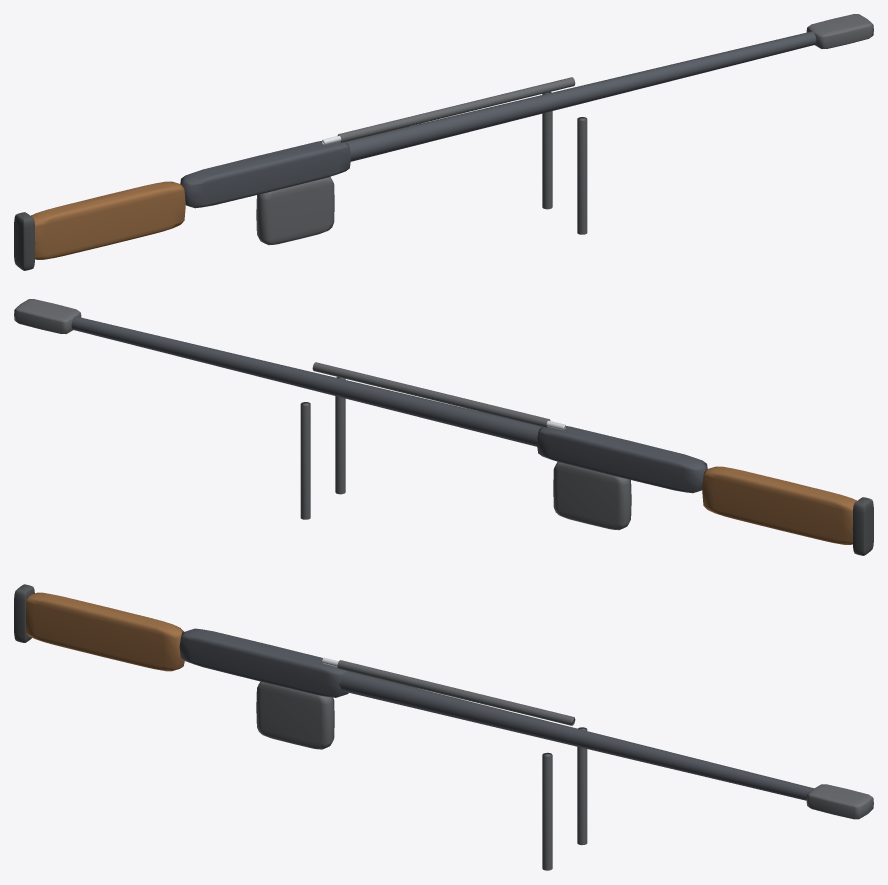
File: ptrs41-reg.glb
3 renders of one model, top to bottom at view 1: azimuth 30°, elevation 25°; view 2: azimuth 150°, elevation 25°; view 3: azimuth 330°, elevation 25°, orthographic.
Visible parts, largest first — view 1: barrel_1220mm, wood_stock, receiver_ptrs, mag_5rd_clip, gas_tube_ptrs, muzzle_brake_ptrs, bipod_leg_R, recoil_pad, bipod_leg_L; view 2: barrel_1220mm, wood_stock, receiver_ptrs, mag_5rd_clip, gas_tube_ptrs, muzzle_brake_ptrs, bipod_leg_L, recoil_pad, bipod_leg_R; view 3: barrel_1220mm, wood_stock, receiver_ptrs, mag_5rd_clip, gas_tube_ptrs, muzzle_brake_ptrs, bipod_leg_R, bipod_leg_L, recoil_pad.
Boxes of the visible parts, x1=… form: barrel_1220mm: x1=346, y1=31, x2=816, y2=161; wood_stock: x1=31, y1=181, x2=185, y2=259; receiver_ptrs: x1=180, y1=141, x2=350, y2=208; mag_5rd_clip: x1=256, y1=177, x2=334, y2=245; gas_tube_ptrs: x1=337, y1=77, x2=575, y2=142; muzzle_brake_ptrs: x1=806, y1=14, x2=873, y2=48; bipod_leg_R: x1=577, y1=117, x2=587, y2=234; recoil_pad: x1=14, y1=212, x2=35, y2=270; bipod_leg_L: x1=542, y1=92, x2=552, y2=209; barrel_1220mm: x1=71, y1=316, x2=541, y2=446; wood_stock: x1=702, y1=466, x2=856, y2=544; receiver_ptrs: x1=537, y1=426, x2=707, y2=493; mag_5rd_clip: x1=553, y1=462, x2=631, y2=530; gas_tube_ptrs: x1=312, y1=362, x2=550, y2=427; muzzle_brake_ptrs: x1=14, y1=299, x2=81, y2=333; bipod_leg_L: x1=300, y1=402, x2=310, y2=519; recoil_pad: x1=852, y1=497, x2=873, y2=555; bipod_leg_R: x1=335, y1=377, x2=345, y2=494; barrel_1220mm: x1=339, y1=671, x2=813, y2=800; wood_stock: x1=26, y1=592, x2=184, y2=671; receiver_ptrs: x1=179, y1=628, x2=348, y2=697; mag_5rd_clip: x1=256, y1=681, x2=334, y2=749; gas_tube_ptrs: x1=337, y1=660, x2=575, y2=725; muzzle_brake_ptrs: x1=806, y1=784, x2=873, y2=819; bipod_leg_R: x1=542, y1=752, x2=552, y2=870; bipod_leg_L: x1=577, y1=727, x2=587, y2=845; recoil_pad: x1=14, y1=584, x2=34, y2=642.
Bounding box in the file's own units: 2.12 × 0.334 × 0.172.
